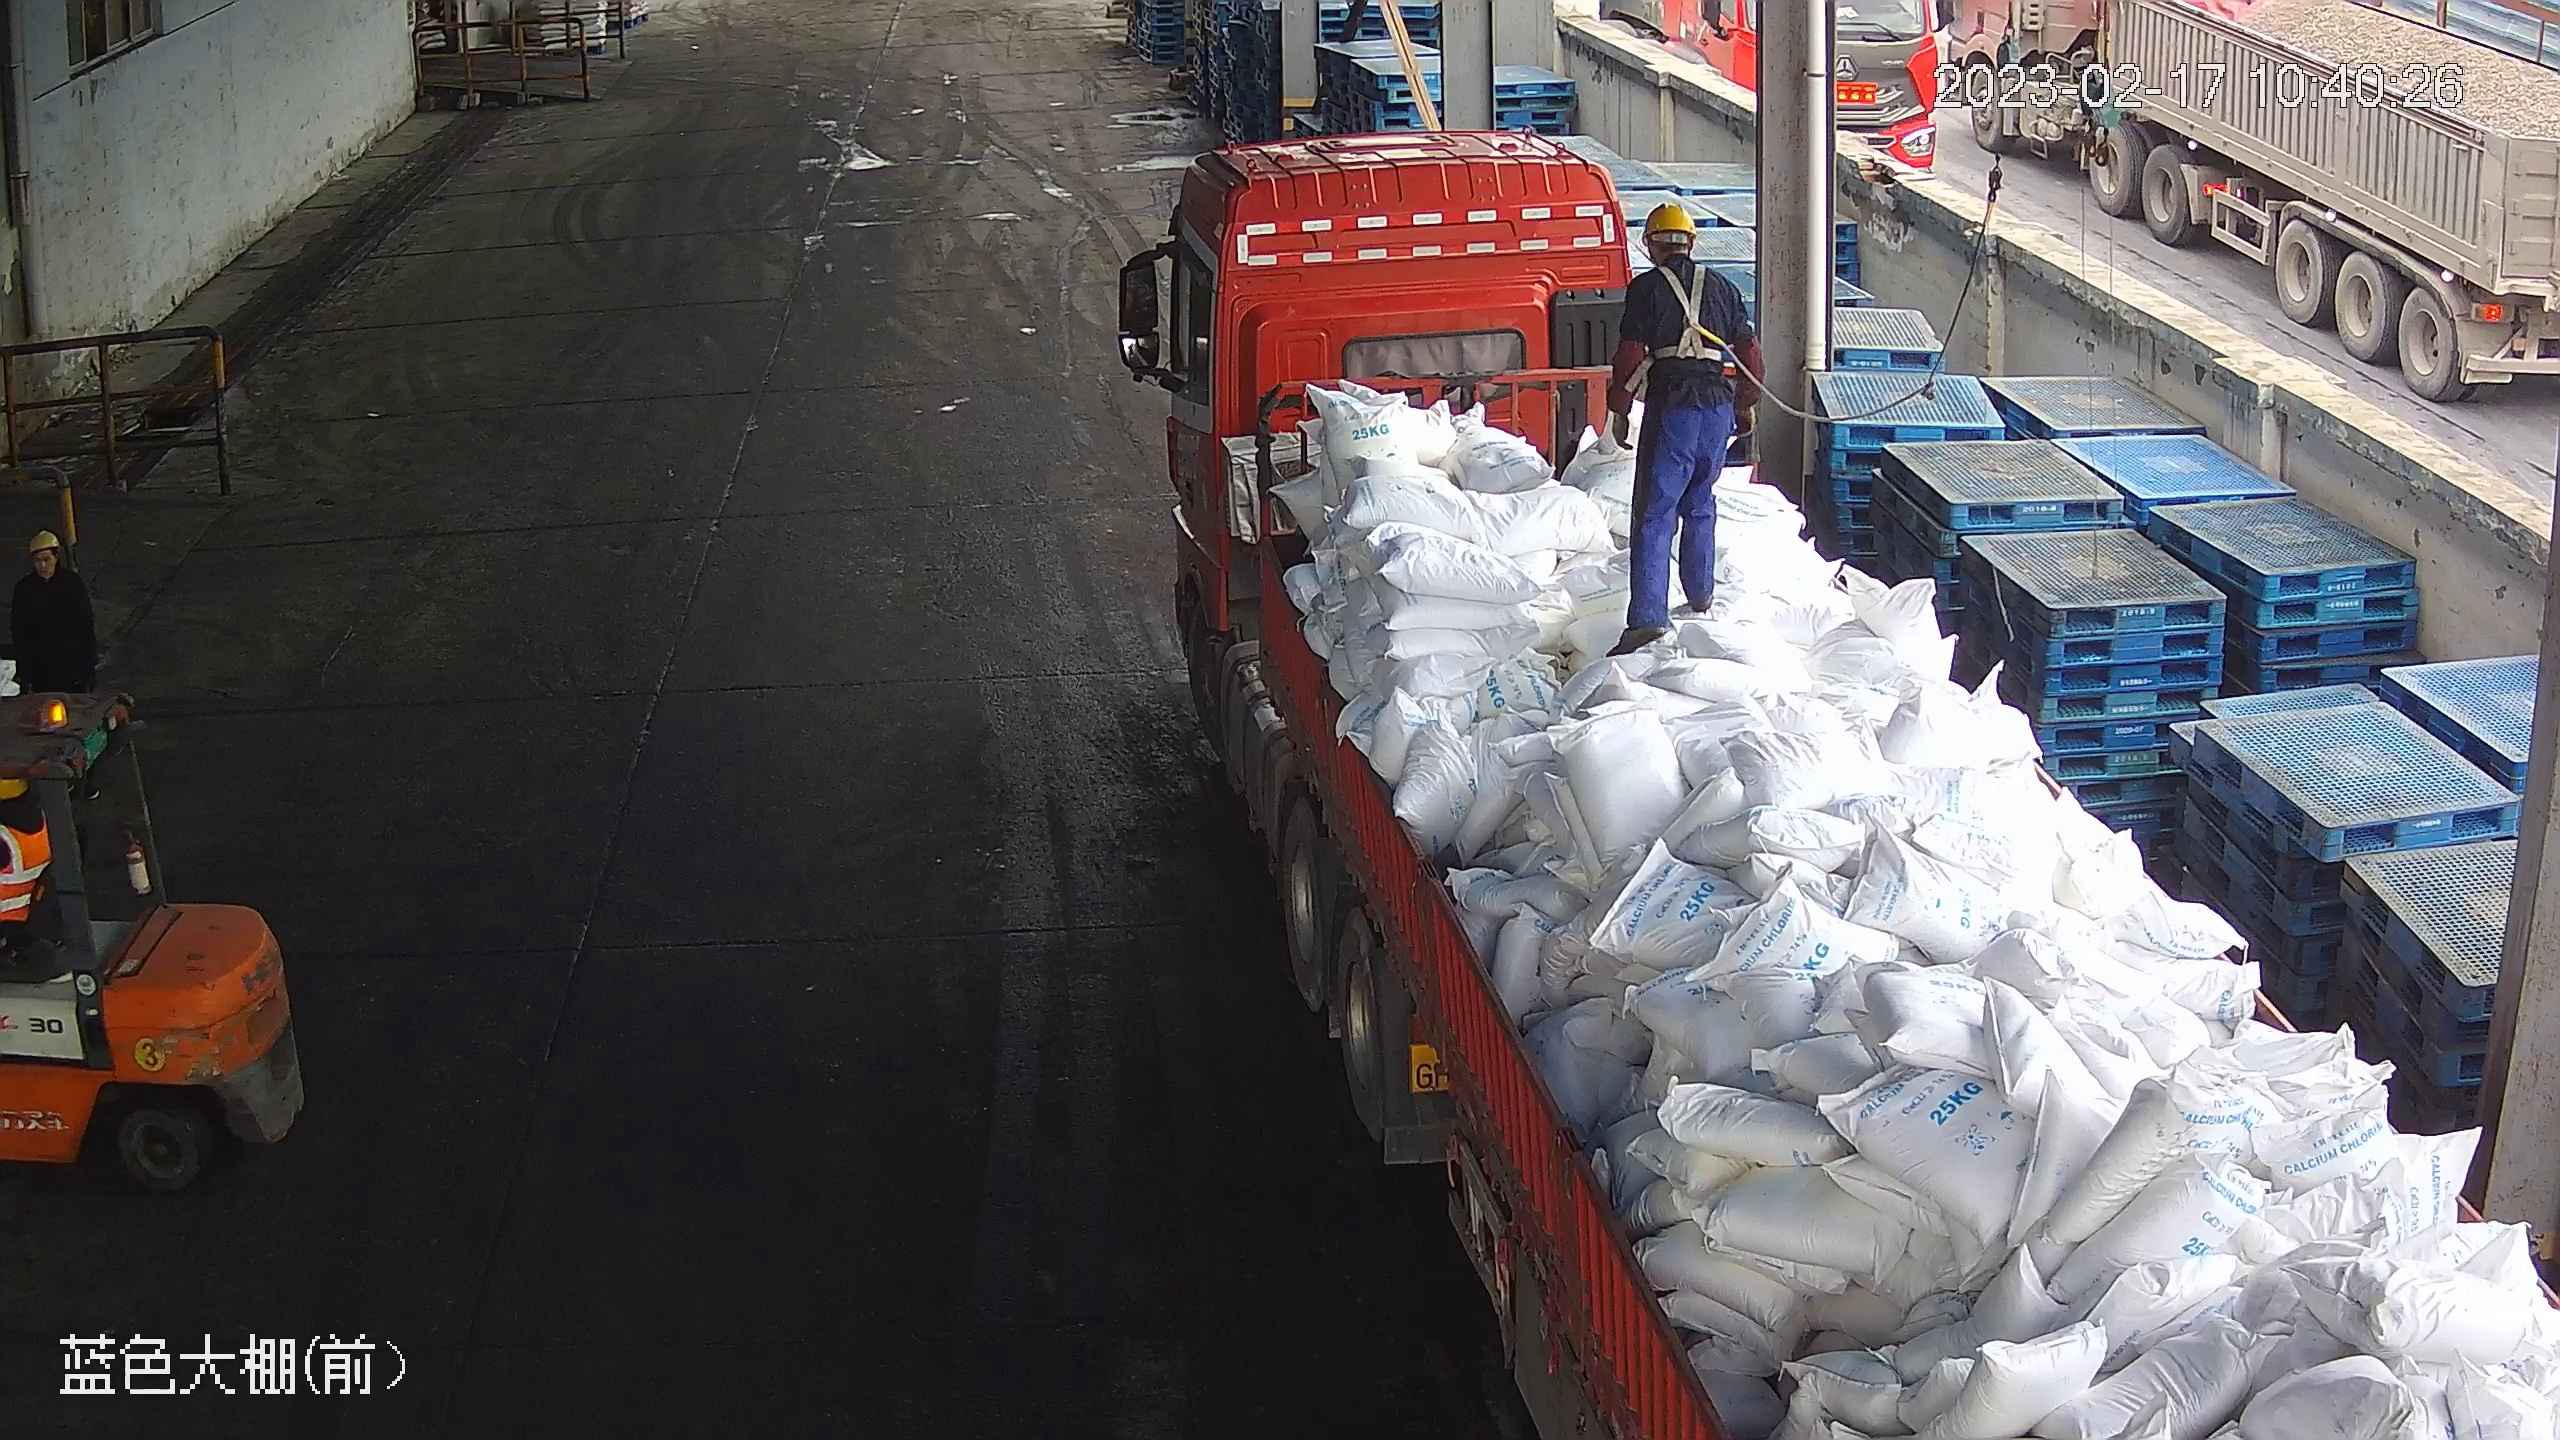belt: (1644, 263, 1729, 365)
head: (1621, 200, 1747, 326), (15, 529, 81, 611), (1, 770, 47, 859)
helmet: (1641, 200, 1698, 239), (24, 530, 59, 556)
people: (1604, 197, 1759, 653), (1, 767, 58, 999)
truck: (1123, 150, 2557, 1436)
